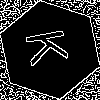K: (25, 25, 79, 67)
